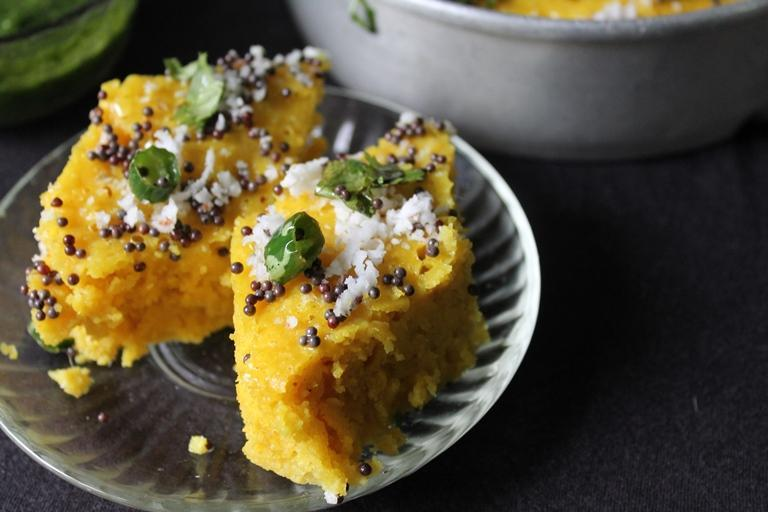dhokla: (53, 49, 449, 484)
